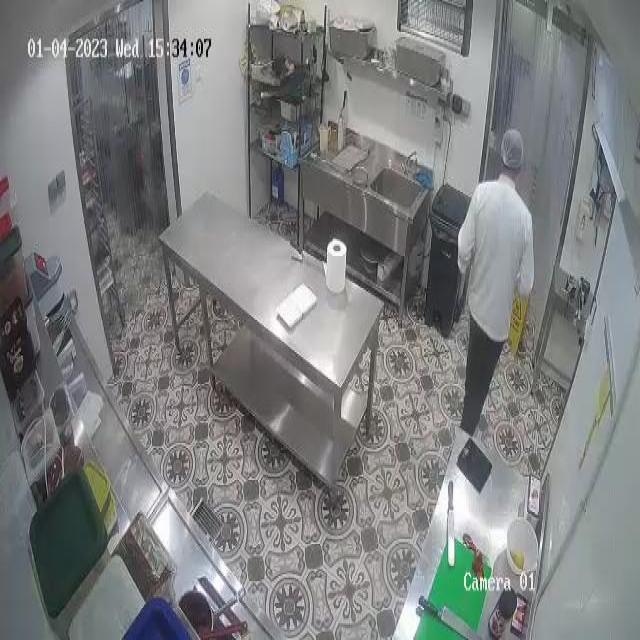hairnet: (500, 130, 526, 168)
